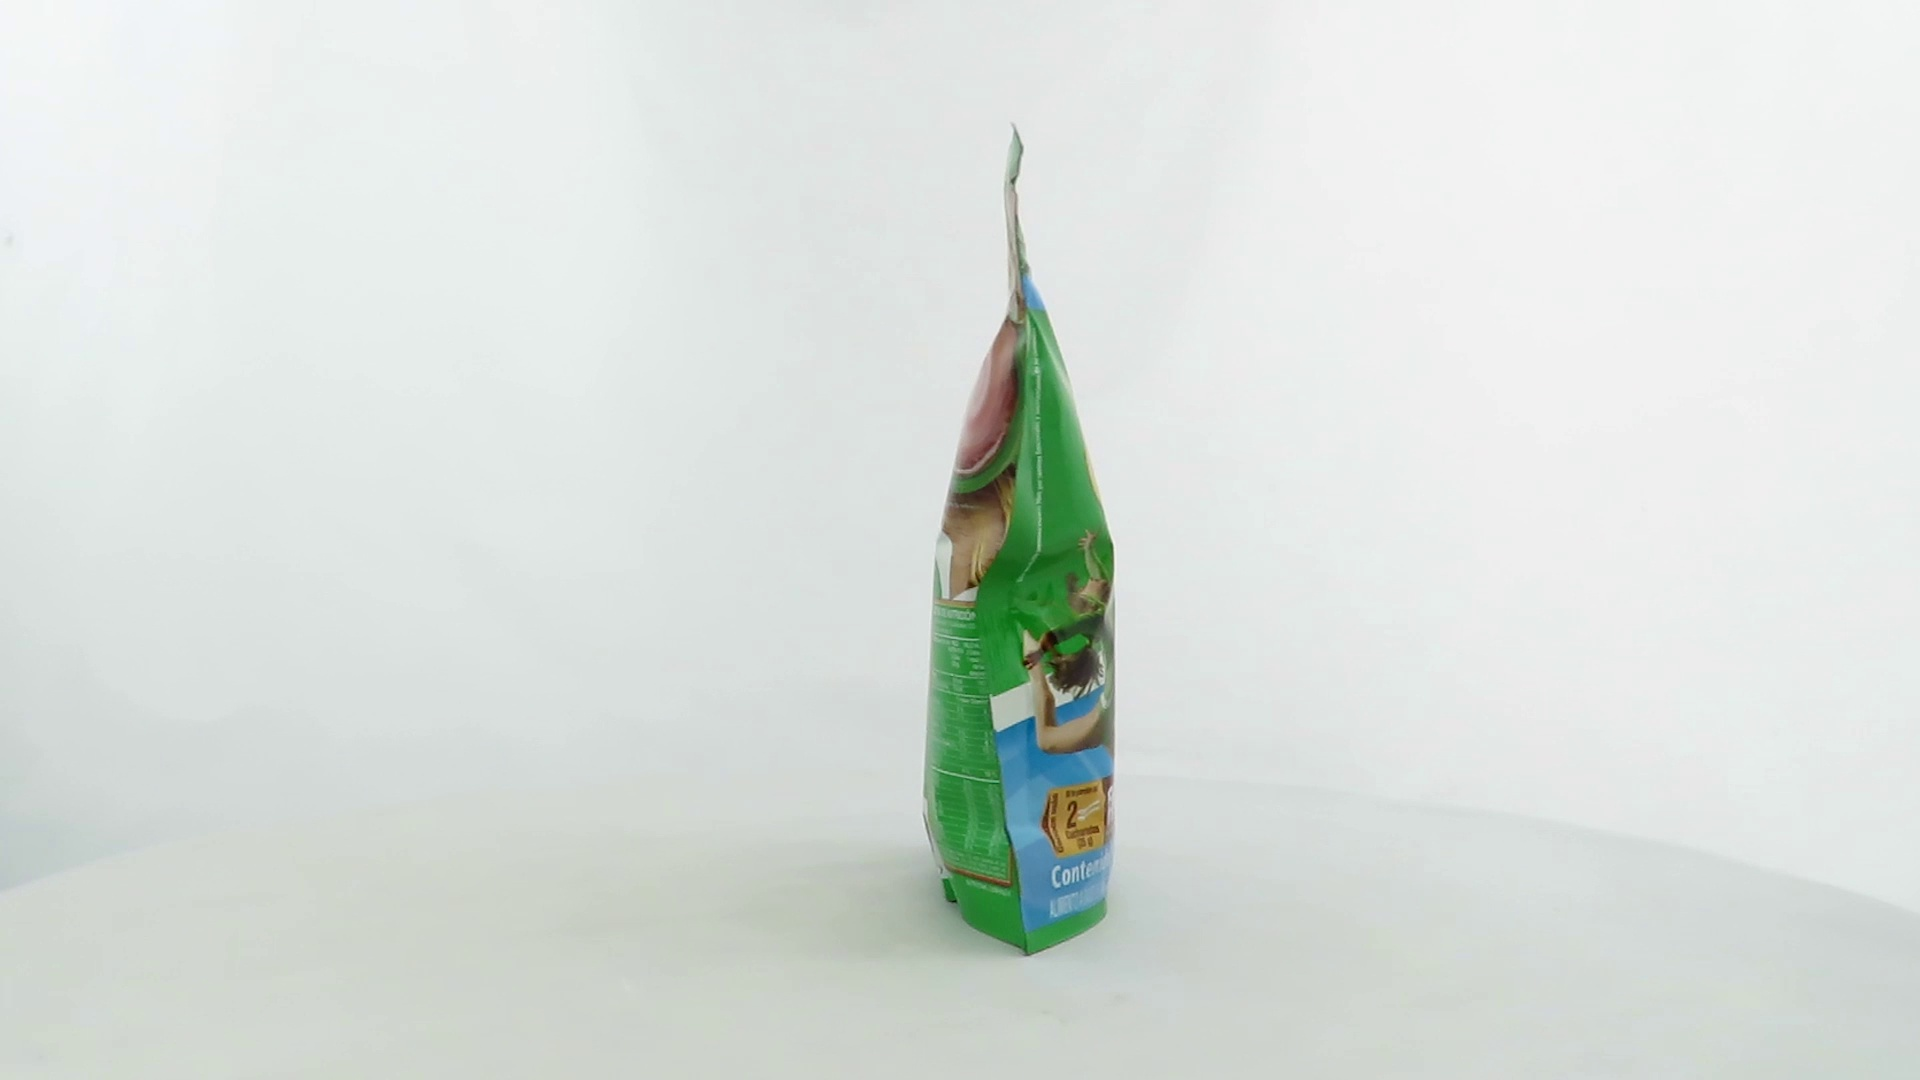COL0170205DYP20000: (916, 117, 1122, 963)
